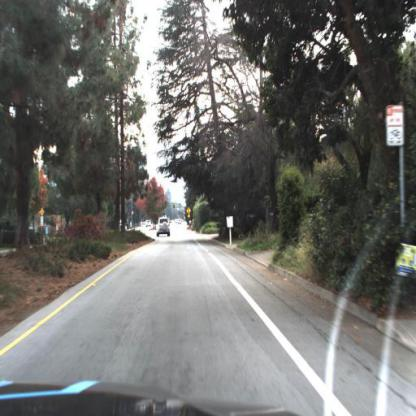car: (154, 212, 174, 240)
